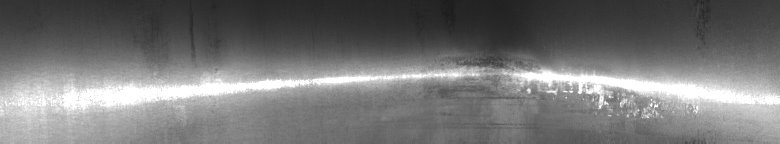ke: (5, 19, 700, 128)
